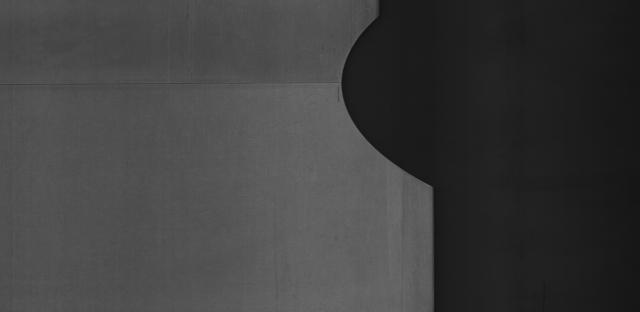crescent_gap: (330, 10, 466, 192)
welding_line: (0, 76, 359, 97)
